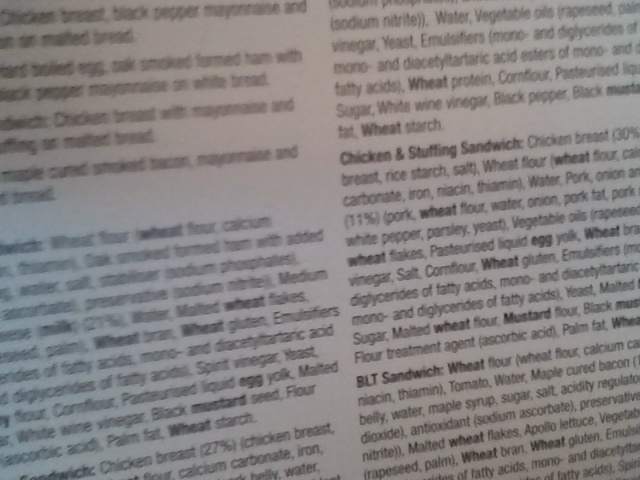wheat: (403, 74, 453, 93), (419, 202, 457, 222), (431, 318, 472, 334)
